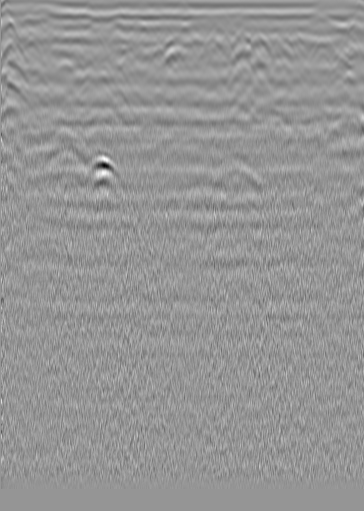가스: (80, 148, 117, 192)
상수: (310, 15, 330, 35)
오수: (21, 11, 41, 31)
우수: (183, 17, 203, 37)
